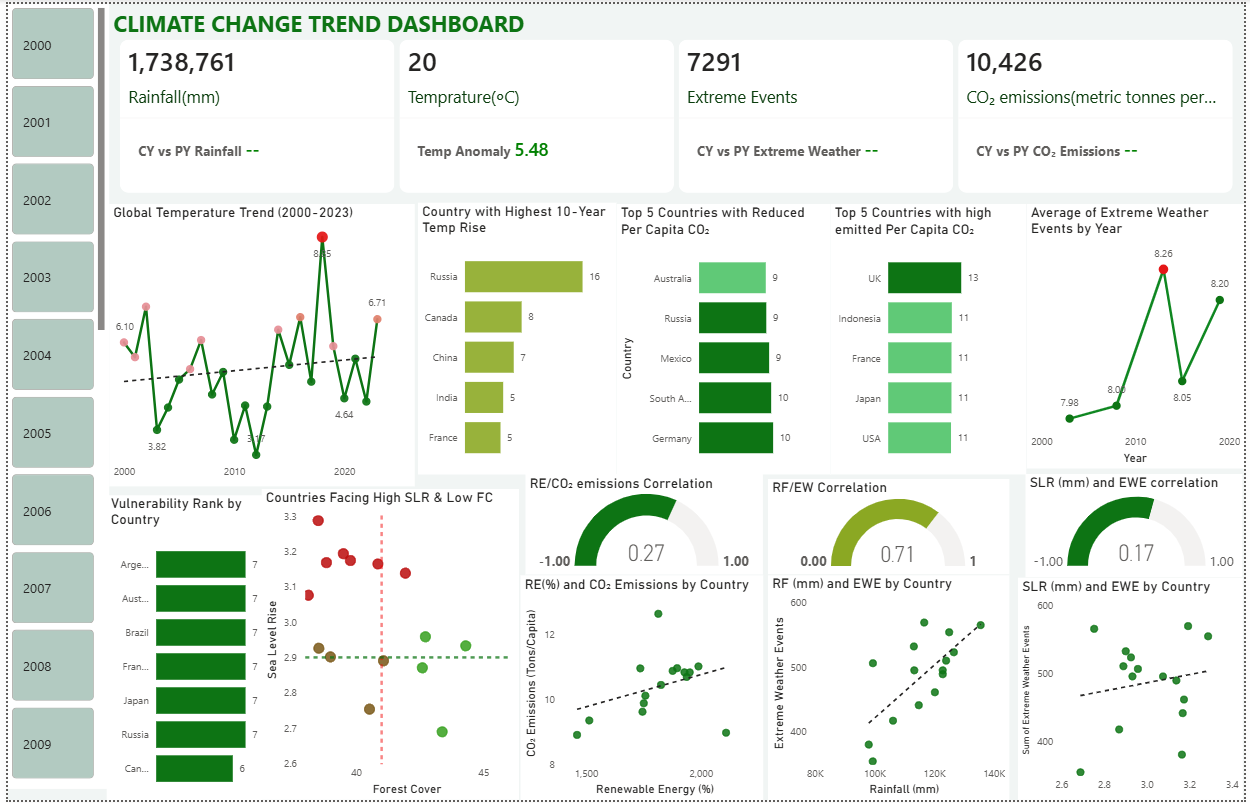

The page's visual inventory and layout, read from the dashboard file:
{"tool":"powerbi","page":{"name":"DASHBOARD","canvas":[1496,963],"ordinal":8},"visuals":[{"type":"cardVisual","fields":{"Data":["Dax Table.Average Rainfall","Dax Table.Average Temprature","Dax Table.Total Extreme Events","Dax Table.Total CO2 emissions"]},"box":[122.6,30.6,1374.2,211.3],"z":0},{"type":"advancedSlicerVisual","fields":{"Values":["climate_change_dataset.Year"]},"box":[0,0,122.4,949.3],"z":1000},{"type":"lineChart","title":"Global Temperature Trend (2000-2023)","fields":{"Category":["climate_change_dataset.Year"],"Y":["Dax Table.change since 2000 Anomaly"]},"box":[123.1,241.5,369.2,341.5],"z":2000},{"type":"textbox","box":[123.1,0,770.8,61.5],"z":3000},{"type":"clusteredBarChart","title":"Country with Highest 10-Year Temp Rise","fields":{"Category":["climate_change_dataset.Country"],"Y":["Dax Table.10 years temp interval"]},"box":[496.8,240.3,240.3,329],"z":4000},{"type":"scatterChart","title":"RF (mm) and EWE by Country","fields":{"Category":["climate_change_dataset.Country"],"X":["Sum(climate_change_dataset.Rainfall (mm))"],"Y":["Sum(climate_change_dataset.Extreme Weather Events)"]},"box":[920,690.8,292.3,272.3],"z":5000},{"type":"gauge","title":"RF/EW Correlation ","fields":{"Y":["Dax Table.Sum of Rainfall (mm) and Sum of Extreme Weather Events correlation for Country 2"],"MaxValue":["Dax Table.Max Value"]},"box":[920,575.4,292.3,115.4],"z":6000},{"type":"clusteredBarChart","title":" Top 5 Countries with high emitted Per Capita CO₂ ","fields":{"Category":["climate_change_dataset.Country"],"Y":["Avg(climate_change_dataset.CO2 Emissions (Tons/Capita))"]},"box":[995.2,241.9,237.1,327.4],"z":7000},{"type":"scatterChart","title":"RE(%) and CO₂ Emissions  by Country","fields":{"Category":["climate_change_dataset.Country"],"X":["Sum(climate_change_dataset.Renewable Energy (%))"],"Y":["Avg(climate_change_dataset.CO2 Emissions (Tons/Capita))"]},"box":[620,690.8,293.8,272.3],"z":8000},{"type":"gauge","title":"RE/CO₂ emissions Correlation","fields":{"Y":["climate_change_dataset.Average of Renewable Energy (%) and Average of CO2 Emissions (Tons/Capita) correlation for Countr"]},"box":[626.2,568.9,286.9,121.3],"z":9000},{"type":"clusteredBarChart","title":"Top 5 Countries with Reduced Per Capita CO₂","fields":{"Category":["climate_change_dataset.Country"],"Y":["Avg(climate_change_dataset.CO2 Emissions (Tons/Capita))"]},"box":[737.1,241.9,258.1,327.4],"z":10000},{"type":"scatterChart","title":"SLR (mm) and EWE by Country","fields":{"X":["Avg(climate_change_dataset.Sea Level Rise (mm))"],"Y":["Sum(climate_change_dataset.Extreme Weather Events)"],"Category":["climate_change_dataset.Country"]},"box":[1221.3,693.4,272.1,268.9],"z":11000},{"type":"gauge","title":"SLR (mm) and EWE correlation ","fields":{"Y":["climate_change_dataset.Average of Sea Level Rise (mm) and Sum of Extreme Weather Events correlation for Country"]},"box":[1231.1,568.9,262.3,124.6],"z":12000},{"type":"scatterChart","title":"Countries Facing High SLR & Low FC","fields":{"Y":["question 6to 7.Averagee sea level risee"],"X":["question 6to 7.Averagee Forest Cover"],"Category":["climate_change_dataset.Country"]},"box":[306.5,587.1,311.3,375.8],"z":13000},{"type":"clusteredBarChart","fields":{"Category":["climate_change_dataset.Country"],"Y":["question 6to 7.Vulnerability Rank"]},"box":[120,593.8,187.7,369.2],"z":14000},{"type":"lineChart","fields":{"Category":["climate_change_dataset.Year"],"Y":["Avg(climate_change_dataset.Extreme Weather Events)"]},"box":[1232.3,241.5,263.1,320],"z":15000}]}

Visuals, with their boxes in screenshot pixels (x1, y1, x2, y2), scaled from the page's 1496x963 canvas onto the 1250x803 screenshot:
cardVisual - Dax Table.Average Rainfall x Dax Table.Average Temprature: crop(102, 26, 1249, 202)
advancedSlicerVisual - climate_change_dataset.Year: crop(0, 0, 102, 792)
"Global Temperature Trend (2000-2023)" lineChart: crop(103, 201, 411, 486)
textbox: crop(103, 0, 747, 51)
"Country with Highest 10-Year Temp Rise" clusteredBarChart: crop(415, 200, 616, 475)
"RF (mm) and EWE by Country" scatterChart: crop(769, 576, 1013, 802)
"RF/EW Correlation " gauge: crop(769, 480, 1013, 576)
" Top 5 Countries with high emitted Per Capita CO₂ " clusteredBarChart: crop(832, 202, 1030, 475)
"RE(%) and CO₂ Emissions  by Country" scatterChart: crop(518, 576, 764, 802)
"RE/CO₂ emissions Correlation" gauge: crop(523, 474, 763, 576)
"Top 5 Countries with Reduced Per Capita CO₂" clusteredBarChart: crop(616, 202, 832, 475)
"SLR (mm) and EWE by Country" scatterChart: crop(1020, 578, 1248, 802)
"SLR (mm) and EWE correlation " gauge: crop(1029, 474, 1248, 578)
"Countries Facing High SLR & Low FC" scatterChart: crop(256, 490, 516, 802)
clusteredBarChart - climate_change_dataset.Country x question 6to 7.Vulnerability Rank: crop(100, 495, 257, 802)
lineChart - climate_change_dataset.Year x Avg(climate_change_dataset.Extreme Weather Events): crop(1030, 201, 1249, 468)
